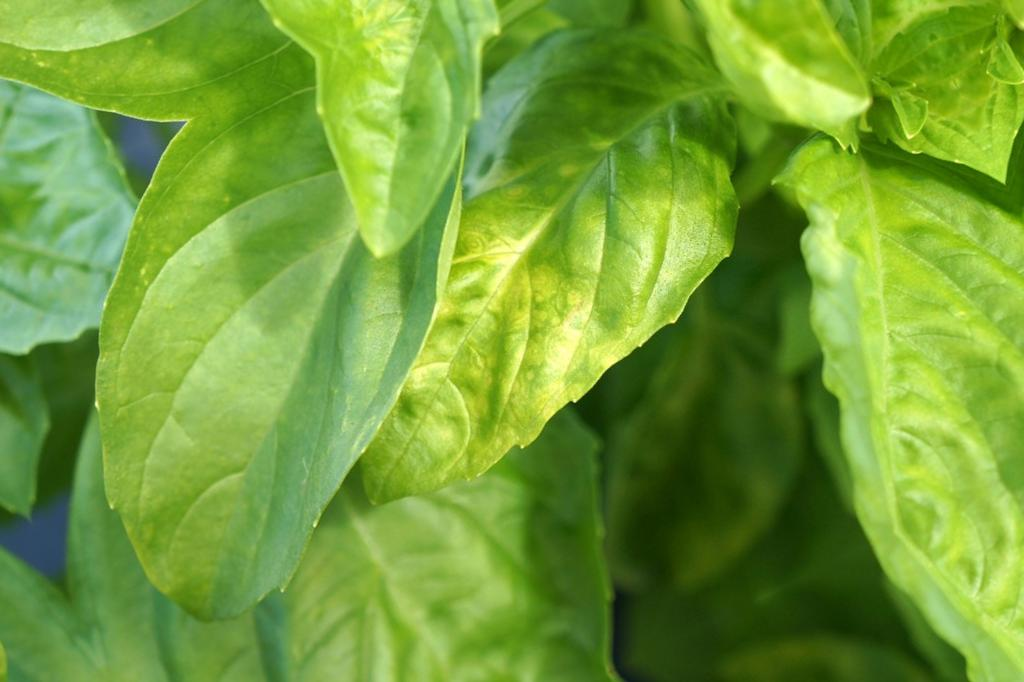Tomato leaf: (0, 47, 568, 647), (219, 0, 833, 523)
